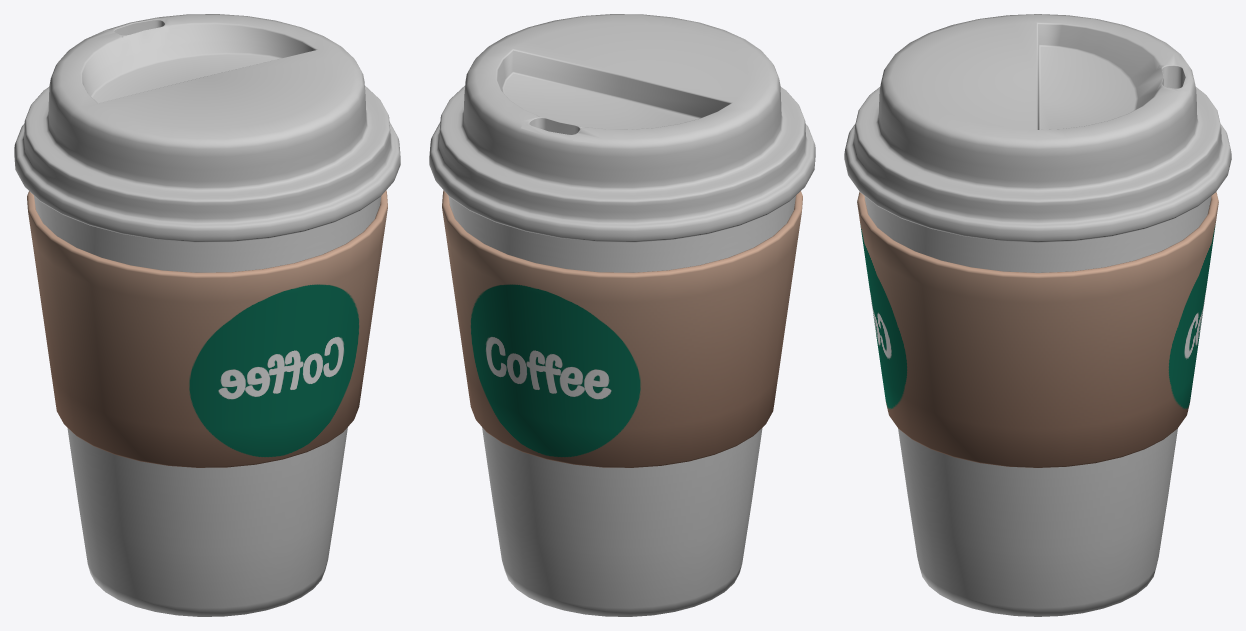
Rendered from Coffee.fbx.
3 views of the same model, side by side, from view 1: azimuth 30°, elevation 25°; view 2: azimuth 150°, elevation 25°; view 3: azimuth 270°, elevation 25° (orthographic).
Parts seen in each view (by area): view 1: Coffee; view 2: Coffee; view 3: Coffee.
Part boxes in pixels (left/top/right/bottom): Coffee: left=14, top=14, right=400, bottom=616; Coffee: left=429, top=14, right=815, bottom=616; Coffee: left=844, top=14, right=1231, bottom=616.
Bounding box in the file's own units: 12.07 × 16.97 × 12.07.
